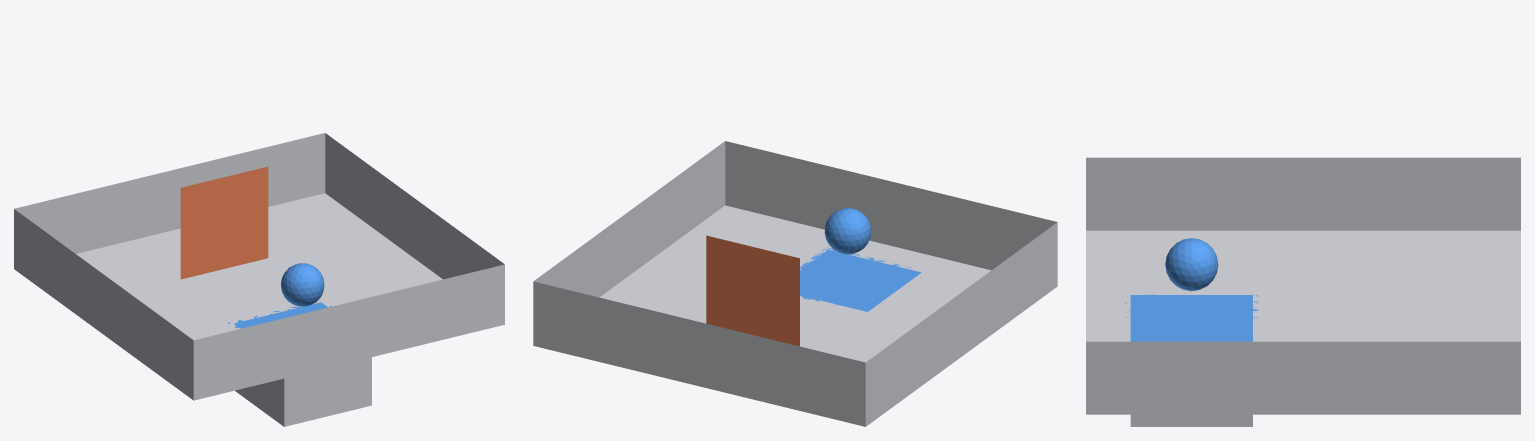
The model's file is SoftbodyCloth.glb.
The picture shows the model from 3 angles, left to right: view 1: azimuth 30°, elevation 25°; view 2: azimuth 150°, elevation 25°; view 3: azimuth 270°, elevation 25°; orthographic projection. The views are drawn at different scales.
Parts seen in each view (by area): view 1: Plane.004, Plane.007, Icosphere.001, Plane.006; view 2: Plane.004, Plane.007, Plane.006, Icosphere.001; view 3: Plane.004, Plane.006, Icosphere.001.
Boxes of the visible parts, x1=… form: Plane.004: x1=14, y1=133, x2=504, y2=426; Plane.007: x1=180, y1=166, x2=268, y2=279; Icosphere.001: x1=281, y1=263, x2=324, y2=306; Plane.006: x1=228, y1=299, x2=331, y2=328; Plane.004: x1=533, y1=141, x2=1057, y2=426; Plane.007: x1=706, y1=235, x2=799, y2=346; Plane.006: x1=800, y1=247, x2=921, y2=311; Icosphere.001: x1=824, y1=208, x2=871, y2=254; Plane.004: x1=1086, y1=157, x2=1520, y2=426; Plane.006: x1=1125, y1=294, x2=1258, y2=341; Icosphere.001: x1=1165, y1=238, x2=1218, y2=291.
Bounding box in the file's own units: 7.1 × 5.35 × 7.1.
